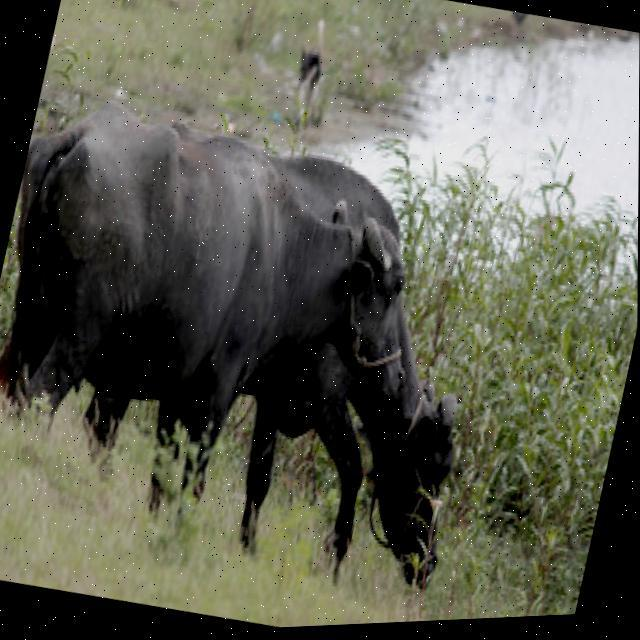Buffalo: (0, 61, 526, 618)
